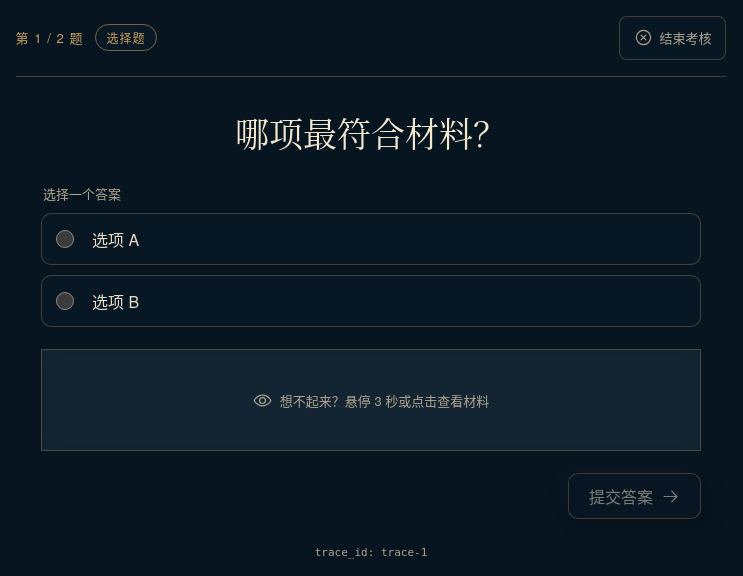
Test case: AssessmentPanel › keeps evidence hidden until hover is sustained for three seconds
Check: the heading "哪项最符合材料？" is shown, box [235,108,507,156]
Click the radio button labelled "选项 A" at (65, 239), box [56,230,74,248]
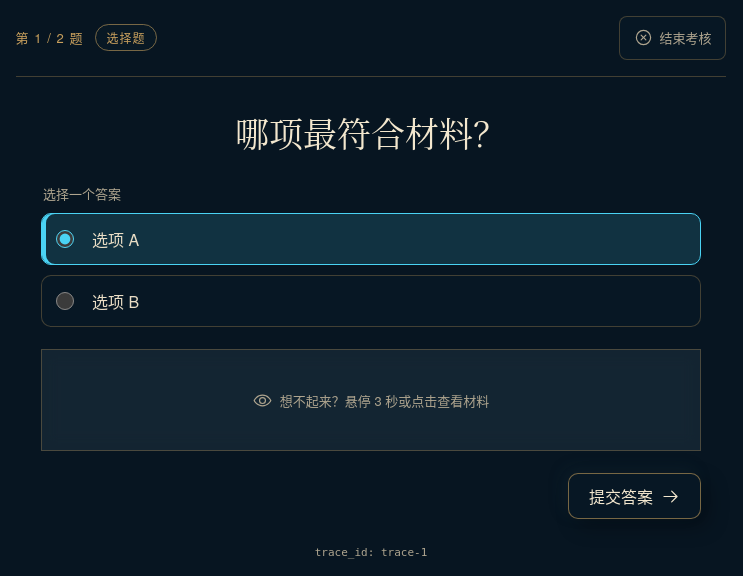
Hover over the button with aria-label "揭示本题材料证据" at (371, 400), box [42,350,700,450]
Wait 3000 ms
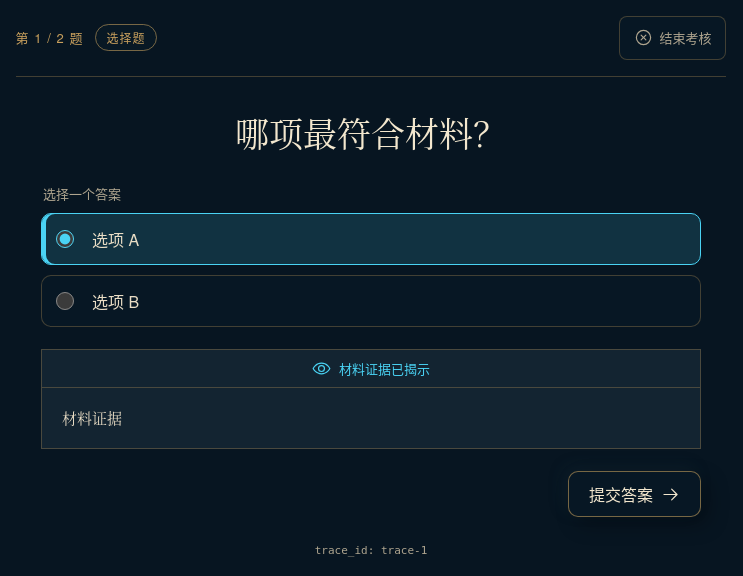
Check: the button "继续悬停 3 秒查看材料" is shown, box [42,350,700,388]
Check: the text "材料证据" is shown, box [62,407,122,428]
